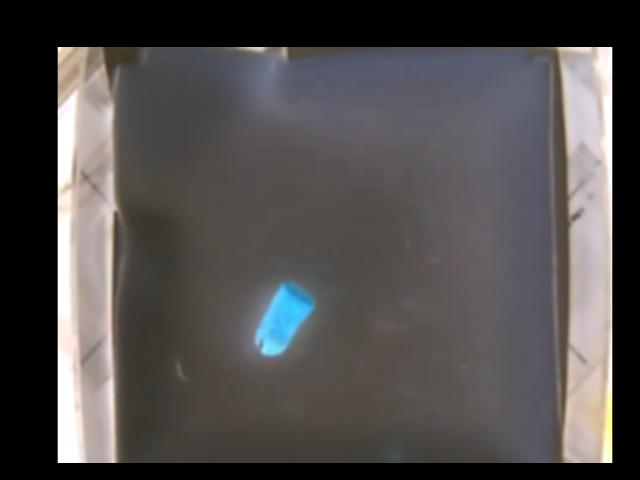Carrot: (256, 285, 316, 359)
